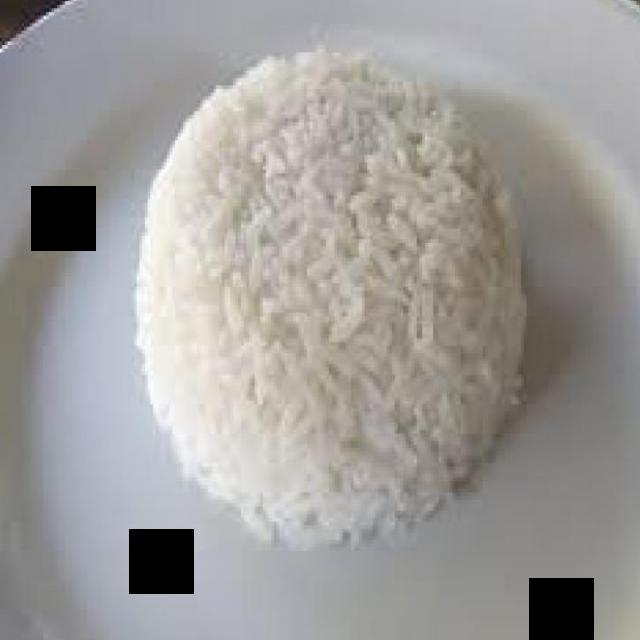rice: (134, 45, 524, 544)
